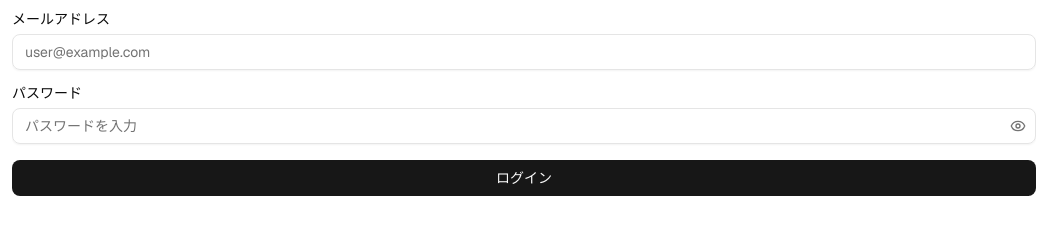
Test case: LoginForm › メールアドレスが空の場合、バリデーションエラーが表示される
Type "password123" into the password field labelled "パスワード". click: point(524, 126)
box: [12,108,1036,144]
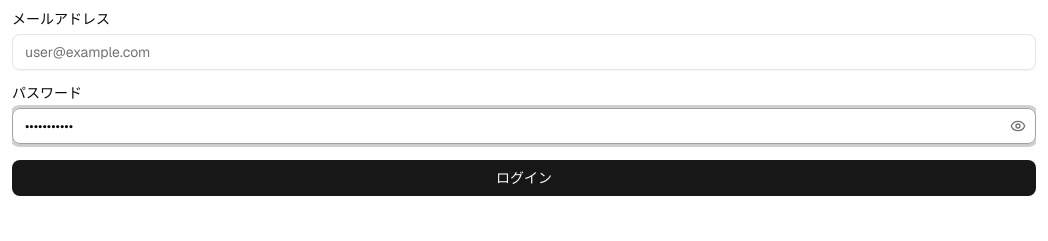
Click the button "ログイン". click: point(524, 178)
box: [12,160,1036,196]
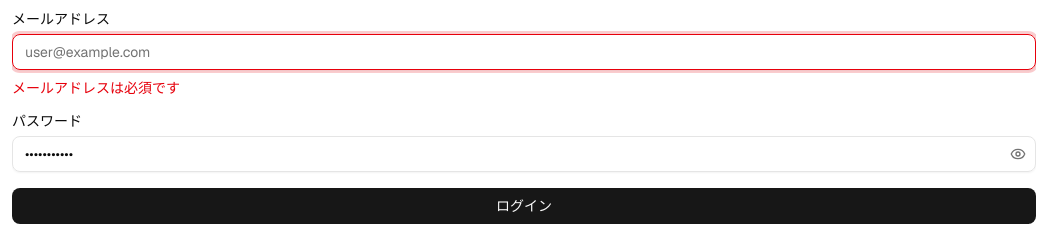
Expected: the text "メールアドレスは必須です" is shown, [12,79,180,97]
